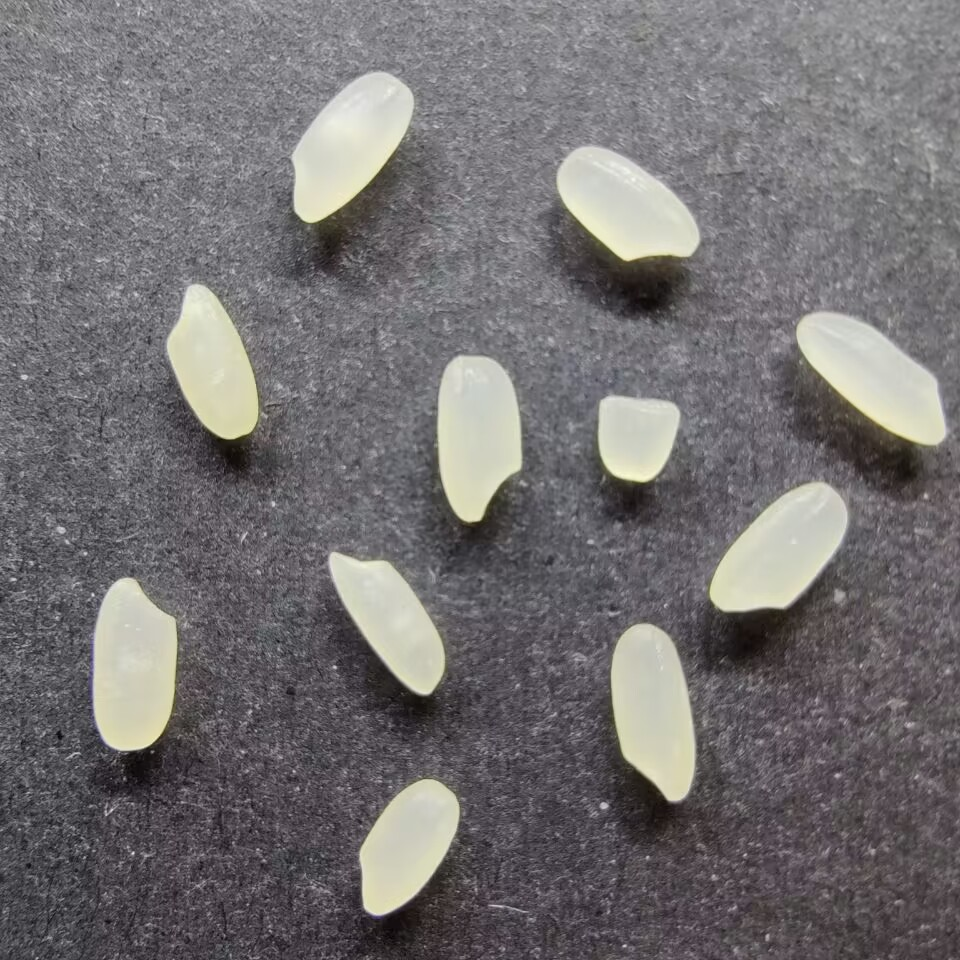broken: (594, 393, 682, 484)
rice: (794, 309, 949, 448), (286, 70, 414, 224), (707, 480, 850, 614), (554, 141, 700, 264), (327, 549, 448, 697), (608, 622, 697, 803), (90, 573, 178, 752), (164, 283, 260, 443), (434, 353, 522, 526), (356, 776, 461, 917)
